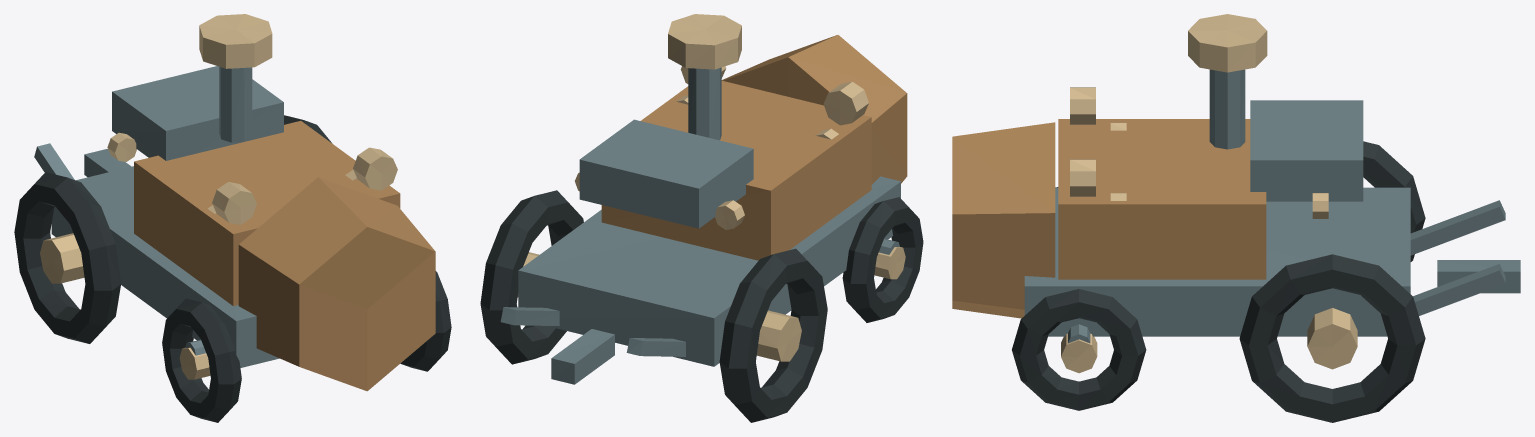
The model's file is autonomous-tractor.source.glb.
The picture shows the model from 3 angles, left to right: view 1: azimuth 30°, elevation 25°; view 2: azimuth 150°, elevation 25°; view 3: azimuth 270°, elevation 25°; orthographic projection. The views are drawn at different scales.
Visible parts, largest first — view 1: autonomous-tractor-sloped-sensor-nose-mesh, autonomous-tractor-compact-engine-deck-mesh, autonomous-tractor-rear-left-wheel-tire-mesh, autonomous-tractor-battery-service-panel-mesh, autonomous-tractor-low-cabless-chassis-mesh, autonomous-tractor-front-left-wheel-tire-mesh, autonomous-tractor-spinning-lidar-head-mesh, autonomous-tractor-central-lidar-mast-mesh, autonomous-tractor-front-right-wheel-tire-mesh, autonomous-tractor-rear-left-wheel-hub-mesh, autonomous-tractor-front-lidar--0.43-mesh, autonomous-tractor-front-lidar-0.43-mesh (+4 smaller); view 2: autonomous-tractor-low-cabless-chassis-mesh, autonomous-tractor-compact-engine-deck-mesh, autonomous-tractor-battery-service-panel-mesh, autonomous-tractor-rear-left-wheel-tire-mesh, autonomous-tractor-sloped-sensor-nose-mesh, autonomous-tractor-rear-right-wheel-tire-mesh, autonomous-tractor-front-left-wheel-tire-mesh, autonomous-tractor-spinning-lidar-head-mesh, autonomous-tractor-central-lidar-mast-mesh, autonomous-tractor-autonomous-drawbar-mesh, autonomous-tractor-rear-left-wheel-hub-mesh, autonomous-tractor-front-lidar--0.43-mesh (+4 smaller); view 3: autonomous-tractor-compact-engine-deck-mesh, autonomous-tractor-low-cabless-chassis-mesh, autonomous-tractor-sloped-sensor-nose-mesh, autonomous-tractor-rear-right-wheel-tire-mesh, autonomous-tractor-battery-service-panel-mesh, autonomous-tractor-front-right-wheel-tire-mesh, autonomous-tractor-spinning-lidar-head-mesh, autonomous-tractor-central-lidar-mast-mesh, autonomous-tractor-rear-right-wheel-hub-mesh, autonomous-tractor-rear-left-wheel-tire-mesh, autonomous-tractor-hitch-arm--0.38-mesh, autonomous-tractor-hitch-arm-0.38-mesh (+4 smaller).
Boxes of the visible parts, x1,y1,x2,y2 form: autonomous-tractor-sloped-sensor-nose-mesh: [238, 177, 435, 391]; autonomous-tractor-compact-engine-deck-mesh: [134, 121, 400, 305]; autonomous-tractor-rear-left-wheel-tire-mesh: [14, 172, 120, 343]; autonomous-tractor-battery-service-panel-mesh: [112, 66, 283, 160]; autonomous-tractor-low-cabless-chassis-mesh: [51, 166, 279, 367]; autonomous-tractor-front-left-wheel-tire-mesh: [162, 298, 241, 422]; autonomous-tractor-spinning-lidar-head-mesh: [199, 14, 272, 68]; autonomous-tractor-central-lidar-mast-mesh: [219, 67, 252, 142]; autonomous-tractor-front-right-wheel-tire-mesh: [400, 271, 451, 371]; autonomous-tractor-rear-left-wheel-hub-mesh: [40, 233, 84, 283]; autonomous-tractor-front-lidar--0.43-mesh: [212, 182, 256, 224]; autonomous-tractor-front-lidar-0.43-mesh: [353, 147, 397, 190]; autonomous-tractor-low-cabless-chassis-mesh: [518, 176, 900, 366]; autonomous-tractor-compact-engine-deck-mesh: [601, 80, 871, 260]; autonomous-tractor-battery-service-panel-mesh: [579, 119, 753, 228]; autonomous-tractor-rear-left-wheel-tire-mesh: [719, 248, 827, 422]; autonomous-tractor-sloped-sensor-nose-mesh: [721, 35, 907, 184]; autonomous-tractor-rear-right-wheel-tire-mesh: [480, 190, 583, 364]; autonomous-tractor-front-left-wheel-tire-mesh: [842, 197, 923, 322]; autonomous-tractor-spinning-lidar-head-mesh: [668, 14, 741, 69]; autonomous-tractor-central-lidar-mast-mesh: [688, 67, 721, 140]; autonomous-tractor-autonomous-drawbar-mesh: [551, 329, 614, 384]; autonomous-tractor-rear-left-wheel-hub-mesh: [756, 310, 801, 361]; autonomous-tractor-front-lidar--0.43-mesh: [823, 81, 868, 125]; autonomous-tractor-compact-engine-deck-mesh: [1058, 119, 1266, 279]; autonomous-tractor-low-cabless-chassis-mesh: [1024, 187, 1410, 336]; autonomous-tractor-sloped-sensor-nose-mesh: [952, 122, 1055, 318]; autonomous-tractor-rear-right-wheel-tire-mesh: [1239, 254, 1425, 422]; autonomous-tractor-battery-service-panel-mesh: [1250, 100, 1363, 201]; autonomous-tractor-front-right-wheel-tire-mesh: [1012, 289, 1146, 410]; autonomous-tractor-spinning-lidar-head-mesh: [1188, 14, 1267, 72]; autonomous-tractor-central-lidar-mast-mesh: [1209, 69, 1245, 149]; autonomous-tractor-rear-right-wheel-hub-mesh: [1307, 308, 1357, 369]; autonomous-tractor-rear-left-wheel-tire-mesh: [1363, 141, 1425, 261]; autonomous-tractor-hitch-arm--0.38-mesh: [1410, 200, 1505, 255]; autonomous-tractor-hitch-arm-0.38-mesh: [1413, 264, 1505, 315].
Size of the model in its own units: 1.63 by 1.85 by 2.87.
